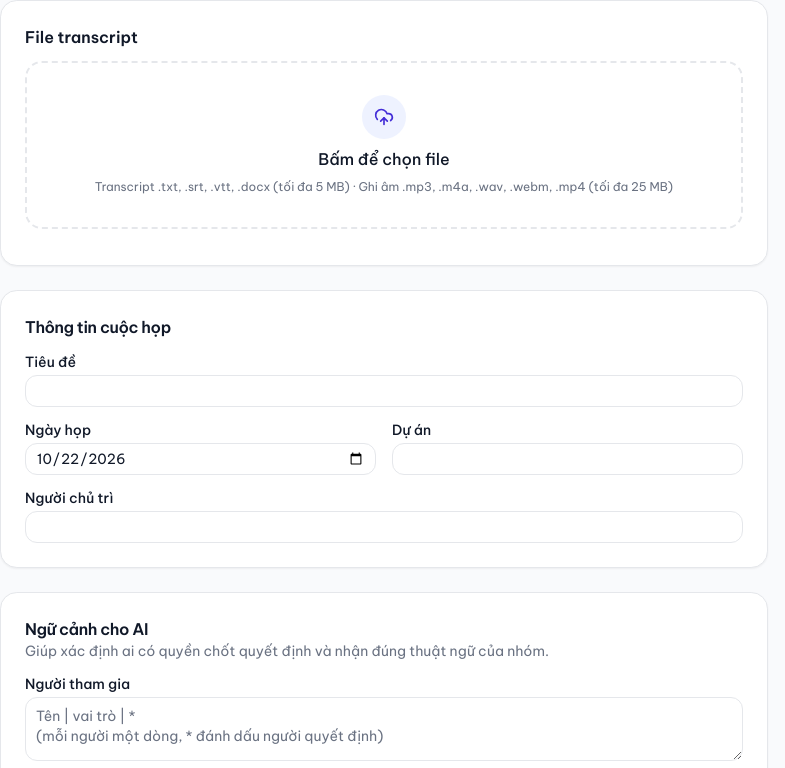
submit without file shows error and does not post
Type "Họp" into the field labelled "Tiêu đề" at x=384, y=391, box [25,375,743,407]
(page scrolled)
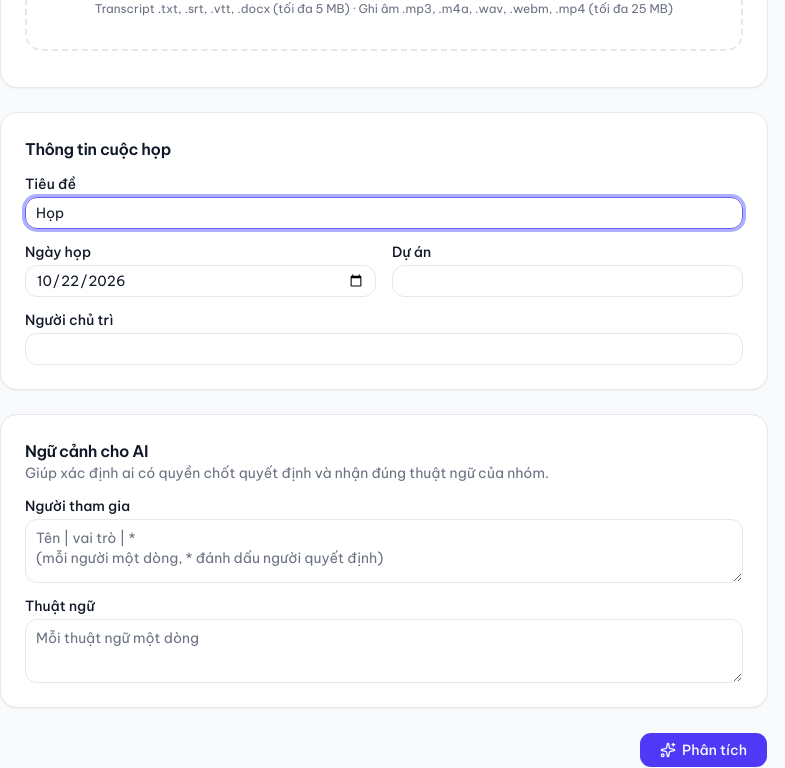
Click the button "Phân tích" at x=704, y=750, box [639,732,768,767]
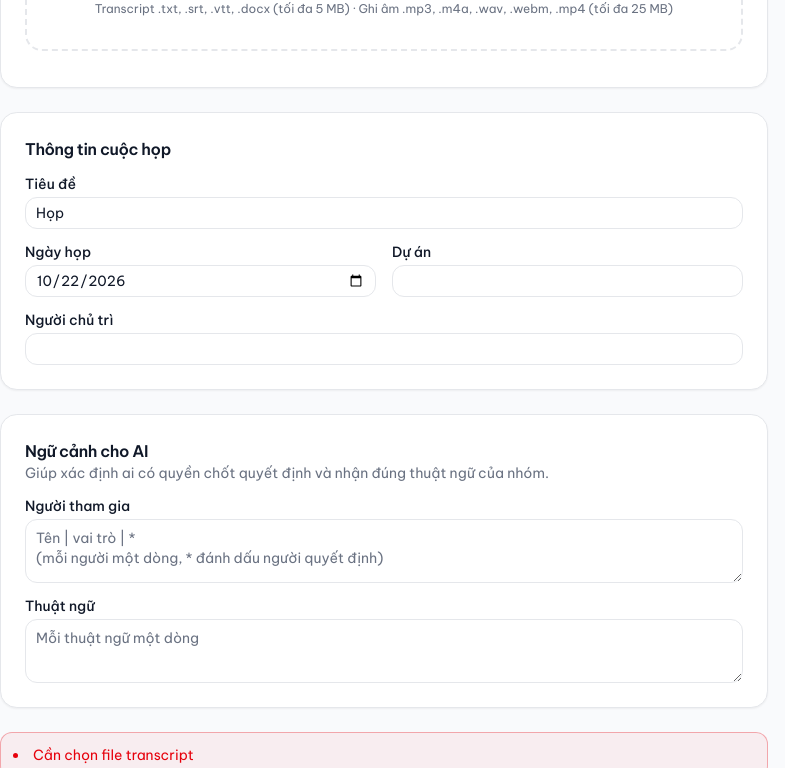
Now the list item "Cần chọn file transcript" is shown, box [33,746,194,764]
